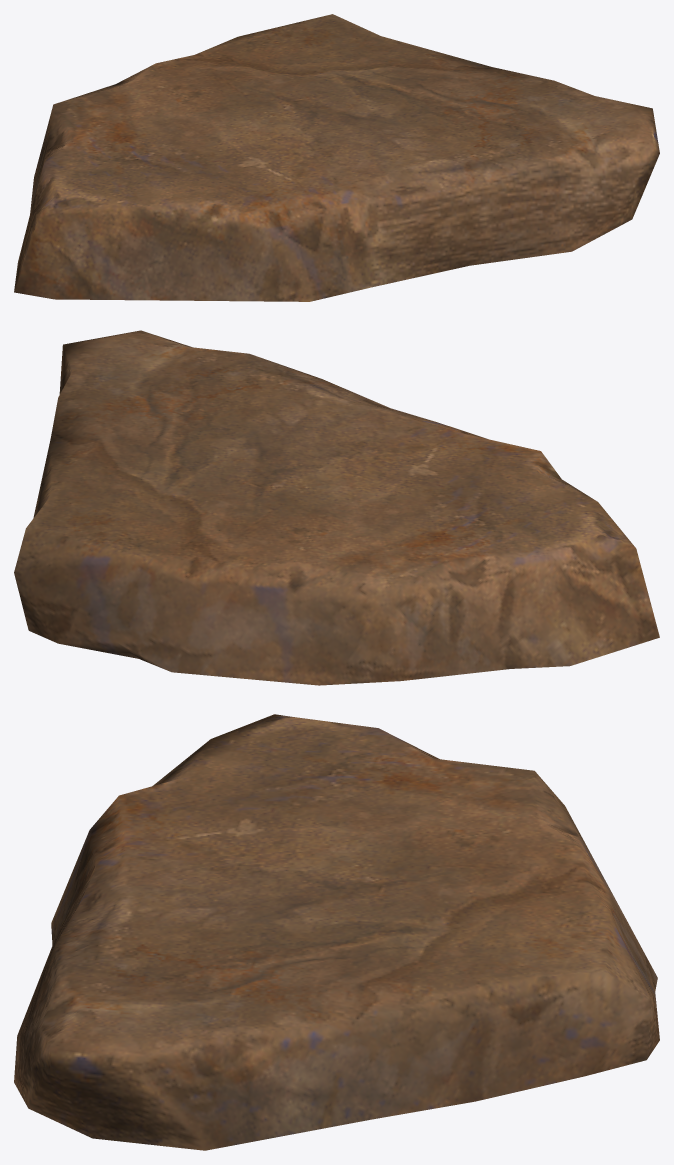
The model's file is Rock_Shales_08.fbx.
3 renders of one model, top to bottom at view 1: azimuth 30°, elevation 25°; view 2: azimuth 150°, elevation 25°; view 3: azimuth 270°, elevation 25°, orthographic. The views are drawn at different scales.
Visible parts, largest first — view 1: polySurface226; view 2: polySurface226; view 3: polySurface226.
Part boxes in pixels (bbox=[...]): polySurface226: bbox=[14, 14, 659, 301]; polySurface226: bbox=[14, 330, 659, 685]; polySurface226: bbox=[14, 714, 659, 1150].
Bounding box in the file's own units: 100 × 15.24 × 72.7.
